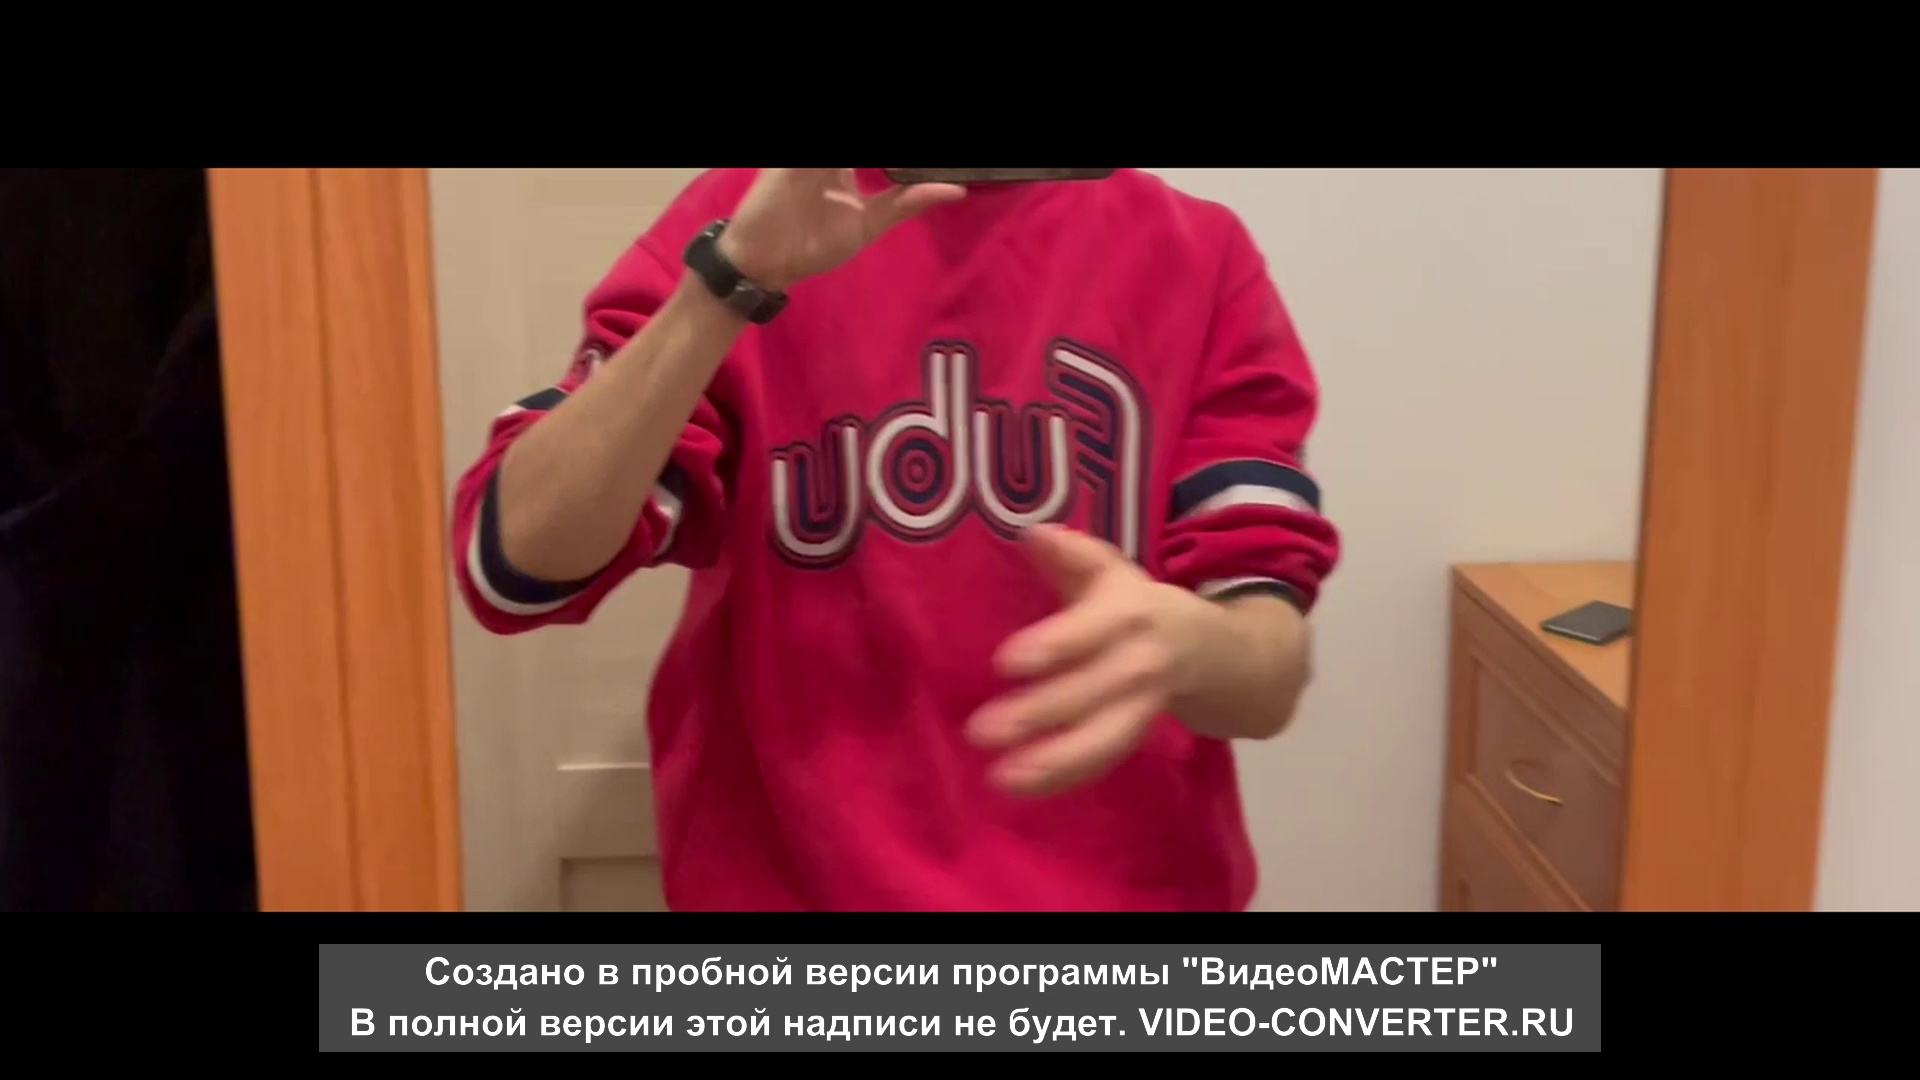Кисть: (971, 521, 1203, 791)
